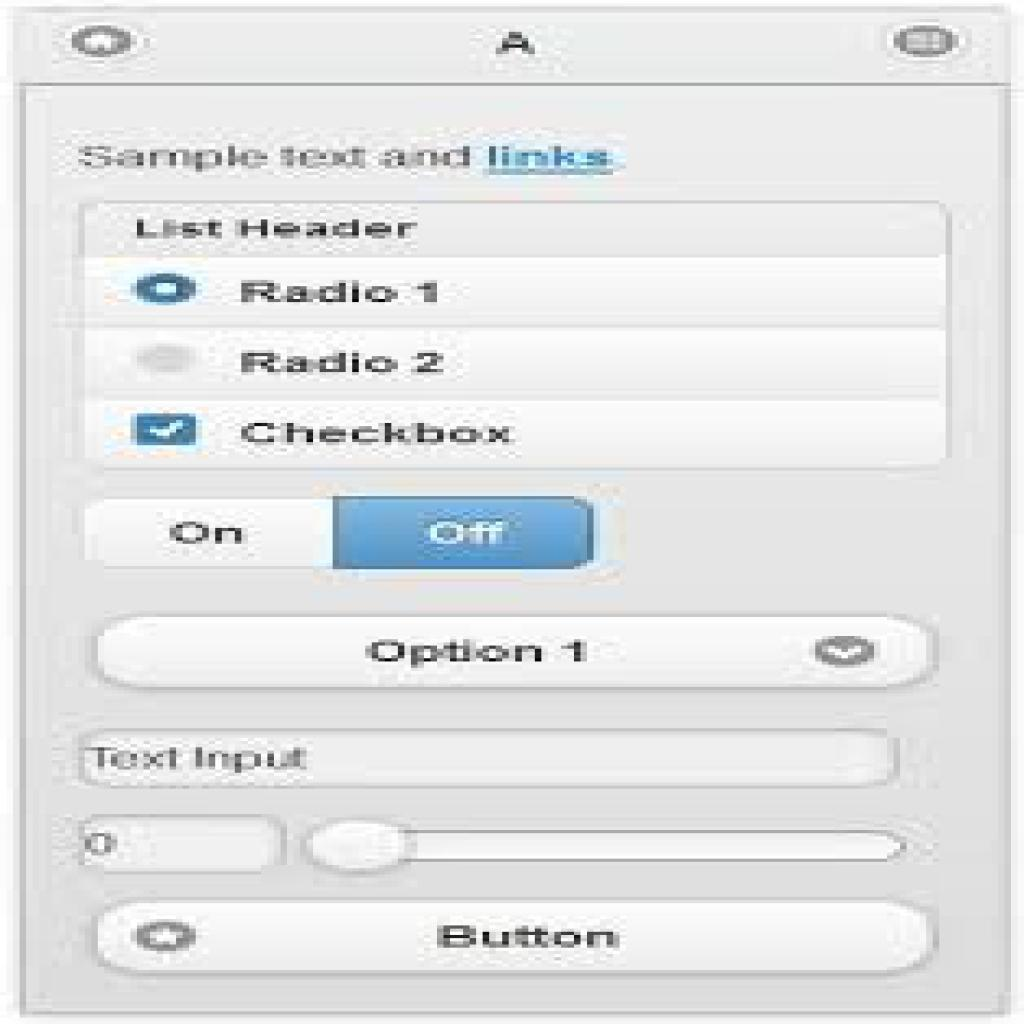button: (102, 901, 930, 976)
checkbox: (133, 414, 199, 449)
dropdown: (97, 613, 940, 689)
input: (80, 733, 897, 783)
radio: (123, 334, 207, 385), (121, 265, 212, 312)
slider: (286, 815, 922, 892)
